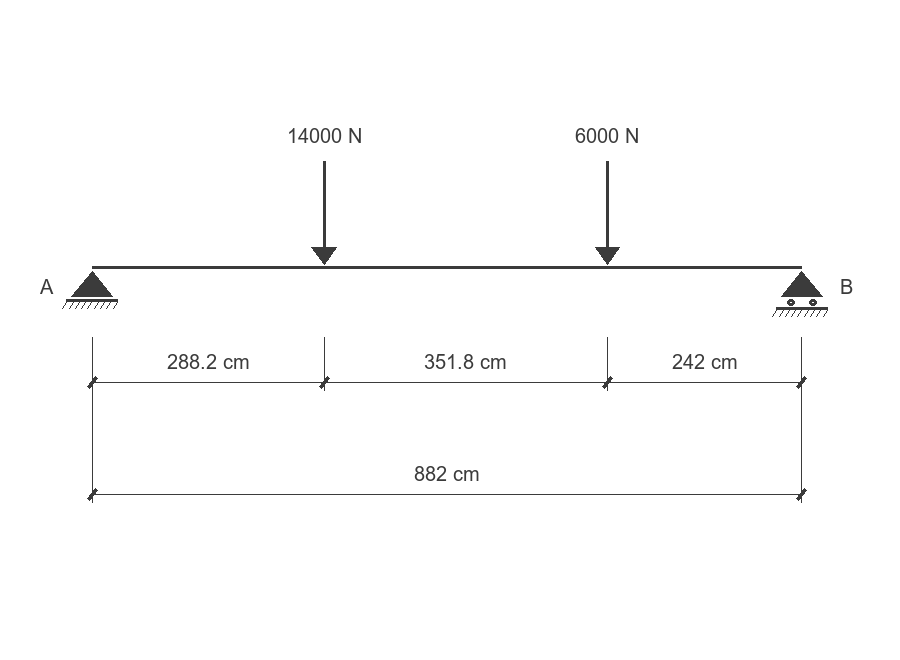pin_support: (62, 271, 118, 309)
point_load: (311, 161, 337, 265), (595, 161, 620, 265)
roller_support: (772, 271, 828, 317)
